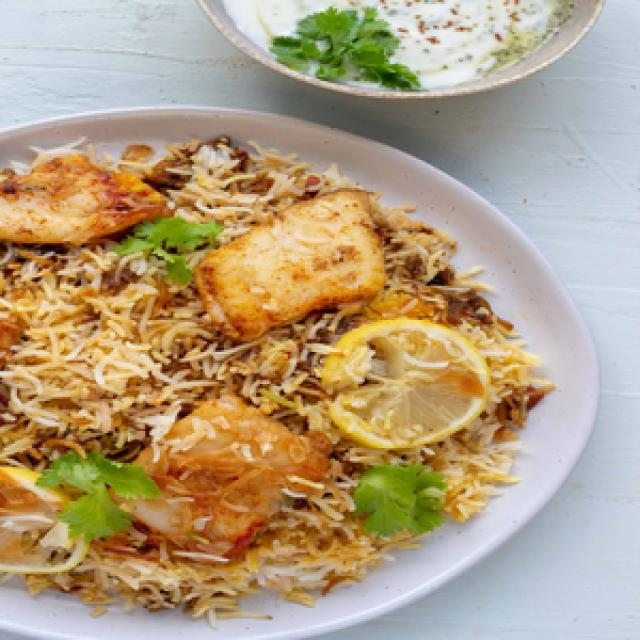chicken biriyani: (0, 109, 557, 640)
